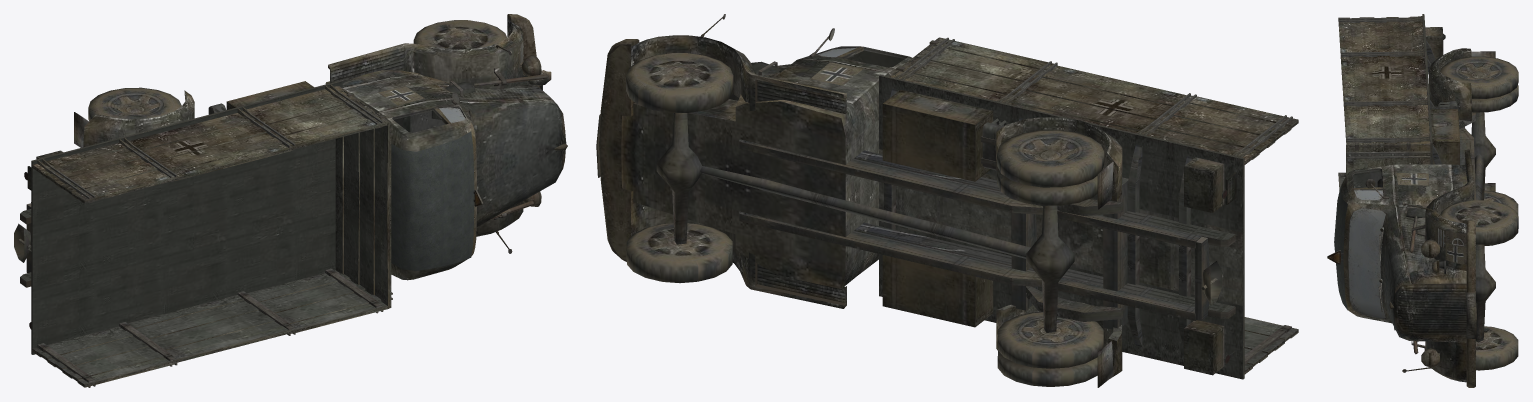
Rendered from vehicle_opel_blitz_woodland_static.glb.
3 views of the same model, side by side, from view 1: azimuth 30°, elevation 25°; view 2: azimuth 150°, elevation 25°; view 3: azimuth 270°, elevation 25° (orthographic). The views are drawn at different scales.
Size of the model in its own units: 255 by 93.26 by 93.46.
4 materials, 4 textured.
